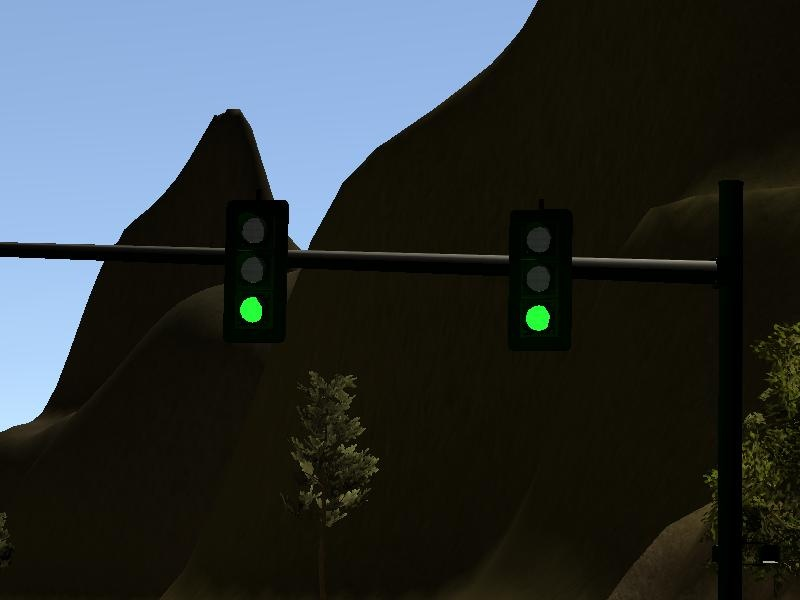GREEN: (222, 199, 288, 340), (506, 211, 572, 352)
